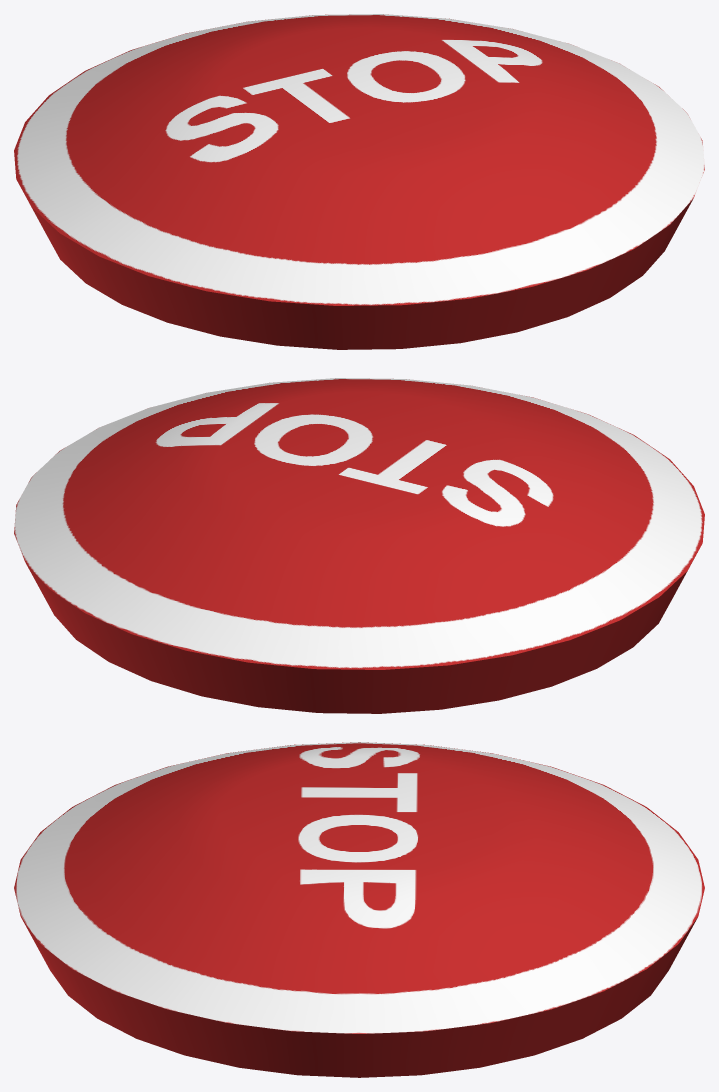
File: stopbutton.obj
3 renders of one model, top to bottom at view 1: azimuth 30°, elevation 25°; view 2: azimuth 150°, elevation 25°; view 3: azimuth 270°, elevation 25°, orthographic.
Visible parts, largest first — view 1: stopbutton; view 2: stopbutton; view 3: stopbutton.
Boxes of the visible parts, left/top/right/bottom form: stopbutton: left=14, top=14, right=704, bottom=349; stopbutton: left=14, top=378, right=704, bottom=713; stopbutton: left=14, top=742, right=704, bottom=1077.
Bounding box in the file's own units: 0.7837 × 0.1609 × 0.7837.
